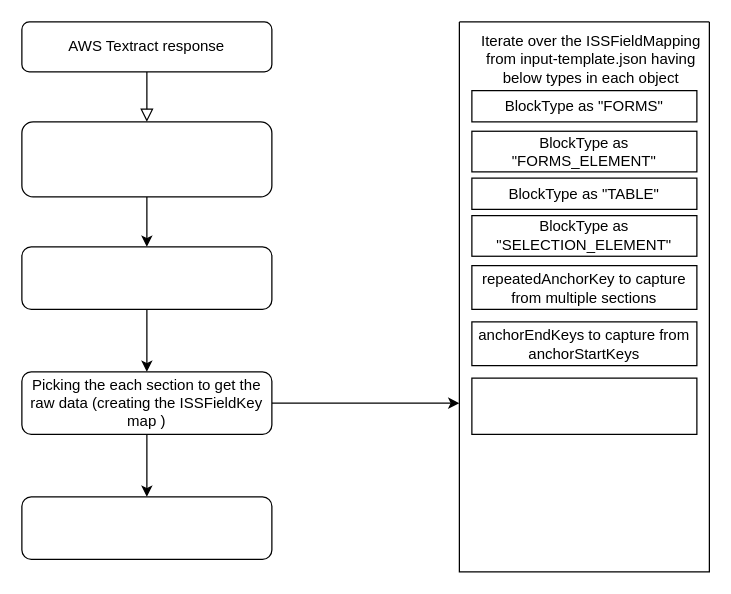
This 731x594 diagram has some shape labels left out. Each missing label, with the centre of its shape:
Convert the ISSFieldKey mapping into texract-response-template format: (x=146, y=527)
In case of capturing values inside the nested sections ISSFieldMapping: (x=584, y=405)
Loop the input template configuration for section wise mapping: (x=146, y=277)
Reading input-template.json based on form type (CIOMS): (x=146, y=159)
